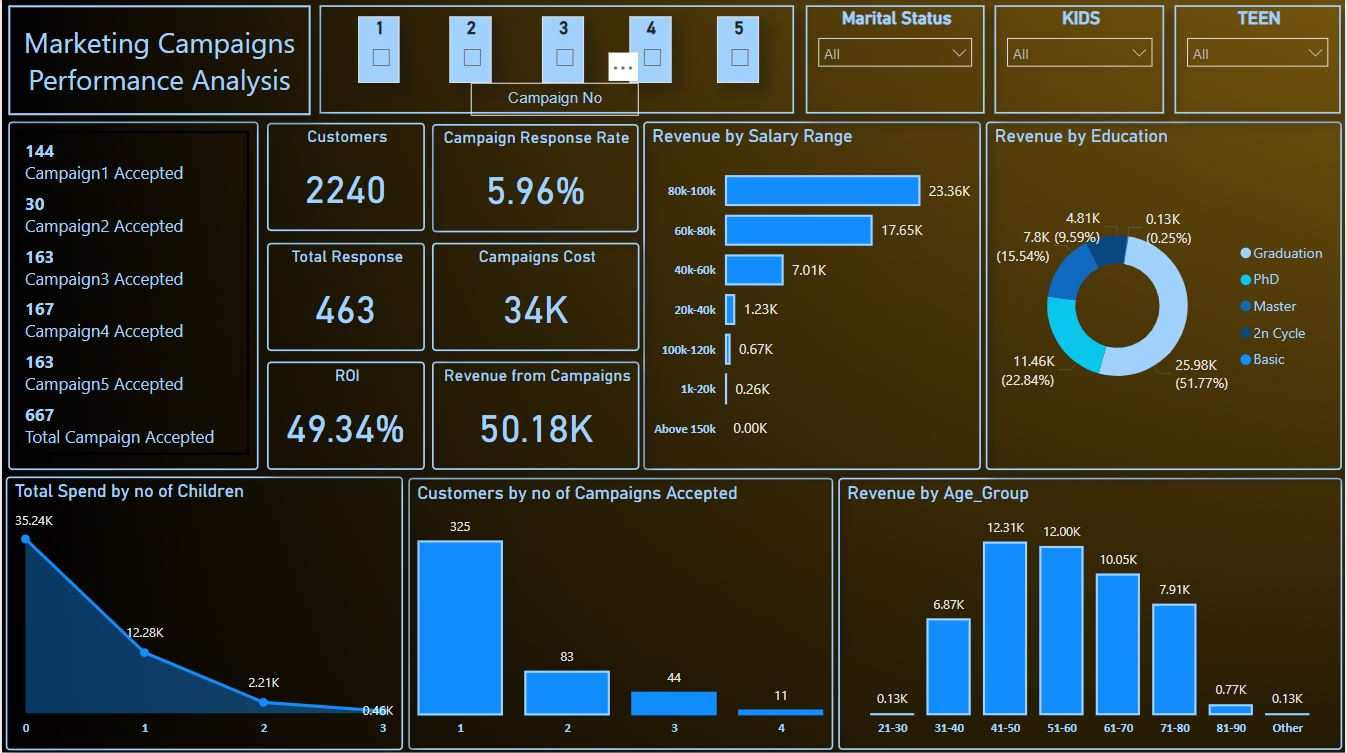

Layout of this report page (visuals, bound fields, positions):
{"tool":"powerbi","page":{"name":"Page 1","canvas":[1280,720],"ordinal":0},"visuals":[{"type":"shape","box":[302.4,6,452.4,103.6],"z":0},{"type":"columnChart","title":"Customers by no of Campaigns Accepted","fields":{"Category":["Marketing_campaign_week6.Campaigns_Accepted"],"Y":["CountNonNull(Marketing_campaign_week6.ID)"]},"box":[386.9,456,404.8,259.5],"z":1000},{"type":"multiRowCard","fields":{"Values":["Sum(Marketing_campaign_week6.AcceptedCmp1)","Sum(Marketing_campaign_week6.AcceptedCmp2)","Sum(Marketing_campaign_week6.AcceptedCmp3)","Sum(Marketing_campaign_week6.AcceptedCmp4)","Sum(Marketing_campaign_week6.AcceptedCmp5)","Sum(Marketing_campaign_week6.Campaigns_Accepted)"]},"box":[6,116.7,238,332.1],"z":2000},{"type":"card","title":"Campaign Response Rate","fields":{"Values":["Avg(Marketing_campaign_week6.Campaign_ResponseRate)"]},"box":[409.5,119,196.4,103.6],"z":3000},{"type":"card","title":"Total Response","fields":{"Values":["Sum(Marketing_campaign_week6.Is_Responsive)"]},"box":[252.4,232.1,150,103.6],"z":4000},{"type":"clusteredBarChart","title":"Revenue by Salary Range","fields":{"Category":["Marketing_campaign_week6.salary range"],"Y":["Sum(Marketing_campaign_week6.Possible_revenue)"]},"box":[610.7,116.7,321.4,332.1],"z":5000},{"type":"lineChart","title":"Total Spend by no of Children","fields":{"Y":["Sum(Marketing_campaign_week6.Possible_revenue)"],"Category":["Marketing_campaign_week6.Total_Children"]},"box":[4.1,454.2,378,260.7],"z":6000},{"type":"card","title":"Customers","fields":{"Values":["CountNonNull(Marketing_campaign_week6.ID)"]},"box":[252.4,117.9,150,103],"z":7000},{"type":"card","title":"ROI","fields":{"Values":["Marketing_campaign_week6.ROI"]},"box":[252.4,345.2,150,103.6],"z":8000},{"type":"card","title":"Revenue from Campaigns","fields":{"Values":["Sum(Marketing_campaign_week6.Possible_revenue)"]},"box":[409.5,345.2,197.6,103.6],"z":9000},{"type":"slicer","title":"1","fields":{"Values":["Marketing_campaign_week6.AcceptedCmp1"]},"box":[339.3,16.7,39.3,63.1],"z":10000},{"type":"slicer","title":"2","fields":{"Values":["Marketing_campaign_week6.AcceptedCmp2"]},"box":[426.6,16.7,39.8,63.1],"z":11000},{"type":"slicer","title":"3","fields":{"Values":["Marketing_campaign_week6.AcceptedCmp3"]},"box":[514.7,16.7,39.8,63.1],"z":12000},{"type":"slicer","title":"4","fields":{"Values":["Marketing_campaign_week6.AcceptedCmp4"]},"box":[597.8,16.7,39.8,63.1],"z":13000},{"type":"slicer","title":"5","fields":{"Values":["Marketing_campaign_week6.AcceptedCmp5"]},"box":[680.9,16.7,39.8,63.1],"z":14000},{"type":"textbox","box":[446.4,79.8,160.7,31],"z":15000},{"type":"card","title":"Campaigns Cost","fields":{"Values":["Sum(Marketing_campaign_week6.Camp_cost)"]},"box":[409.5,232.1,197.6,103.6],"z":16000},{"type":"slicer","title":"Marital Status","fields":{"Values":["Marketing_campaign_week6.Marital_Status"]},"box":[765.5,6,170.2,103.6],"z":17000},{"type":"columnChart","title":"Revenue by Age_Group","fields":{"Category":["Marketing_campaign_week6.Age_Group"],"Y":["Sum(Marketing_campaign_week6.Possible_revenue)"]},"box":[795.9,455.6,480.3,259.3],"z":18000},{"type":"donutChart","title":"Revenue by Education","fields":{"Category":["Marketing_campaign_week6.Education"],"Y":["Sum(Marketing_campaign_week6.Possible_revenue)"]},"box":[936.9,116.7,339.3,332.1],"z":19000},{"type":"slicer","title":"KIDS","fields":{"Values":["Marketing_campaign_week6.Kidhome"]},"box":[945.2,6,161.9,103.6],"z":20000},{"type":"slicer","title":"TEEN","fields":{"Values":["Marketing_campaign_week6.Teenhome"]},"box":[1116.7,6,158.3,103.6],"z":21000},{"type":"shape","box":[6,6,288.1,104.8],"z":22000}]}

Visuals, with their boxes in screenshot pixels (x1, y1, x2, y2), scaled from the page's 1280x720 canvas onto the 1347x753 screenshot:
shape: [318,6,794,115]
"Customers by no of Campaigns Accepted" columnChart: [407,477,833,748]
multiRowCard - Sum(Marketing_campaign_week6.AcceptedCmp1) x Sum(Marketing_campaign_week6.AcceptedCmp2): [6,122,257,469]
"Campaign Response Rate" card: [431,124,638,233]
"Total Response" card: [266,243,423,351]
"Revenue by Salary Range" clusteredBarChart: [643,122,981,469]
"Total Spend by no of Children" lineChart: [4,475,402,748]
"Customers" card: [266,123,423,231]
"ROI" card: [266,361,423,469]
"Revenue from Campaigns" card: [431,361,639,469]
"1" slicer: [357,17,398,83]
"2" slicer: [449,17,491,83]
"3" slicer: [542,17,584,83]
"4" slicer: [629,17,671,83]
"5" slicer: [717,17,758,83]
textbox: [470,83,639,116]
"Campaigns Cost" card: [431,243,639,351]
"Marital Status" slicer: [806,6,985,115]
"Revenue by Age_Group" columnChart: [838,476,1343,748]
"Revenue by Education" donutChart: [986,122,1343,469]
"KIDS" slicer: [995,6,1165,115]
"TEEN" slicer: [1175,6,1342,115]
shape: [6,6,309,116]
